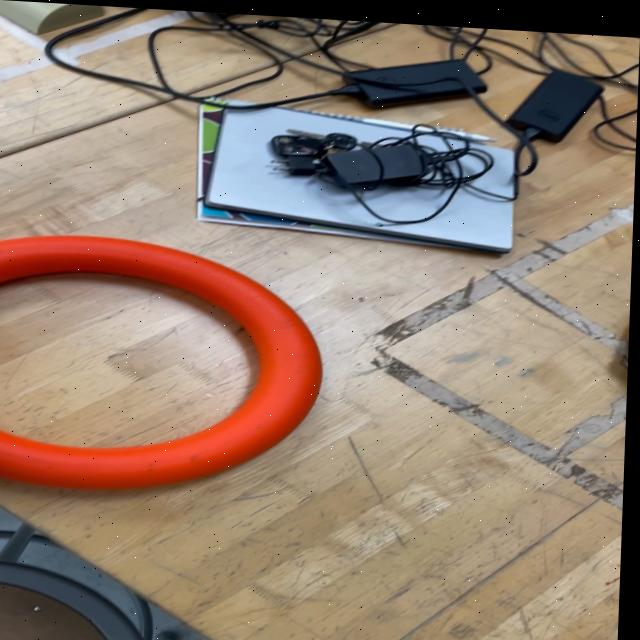note: (0, 229, 332, 501)
